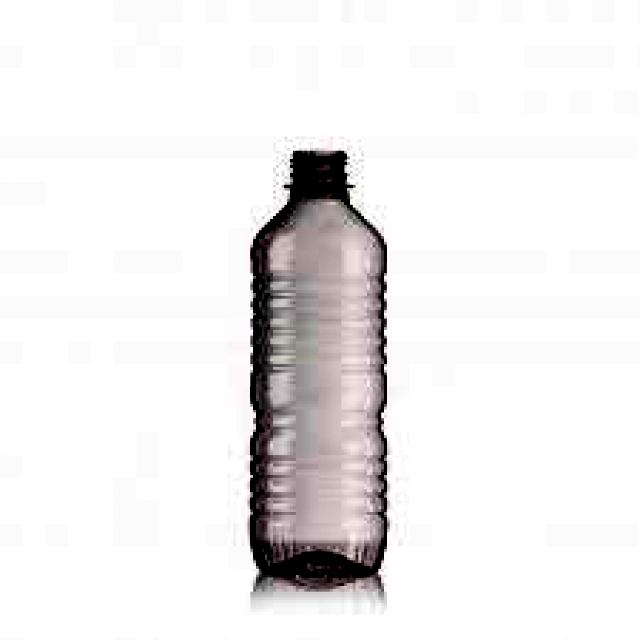Plastic: (245, 145, 397, 586)
